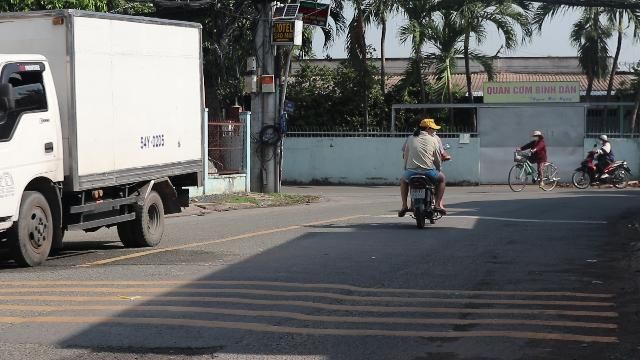licenseplate: (410, 188, 424, 197)
motorcyclist: (394, 115, 448, 226)
nohelmet: (419, 117, 441, 134)
